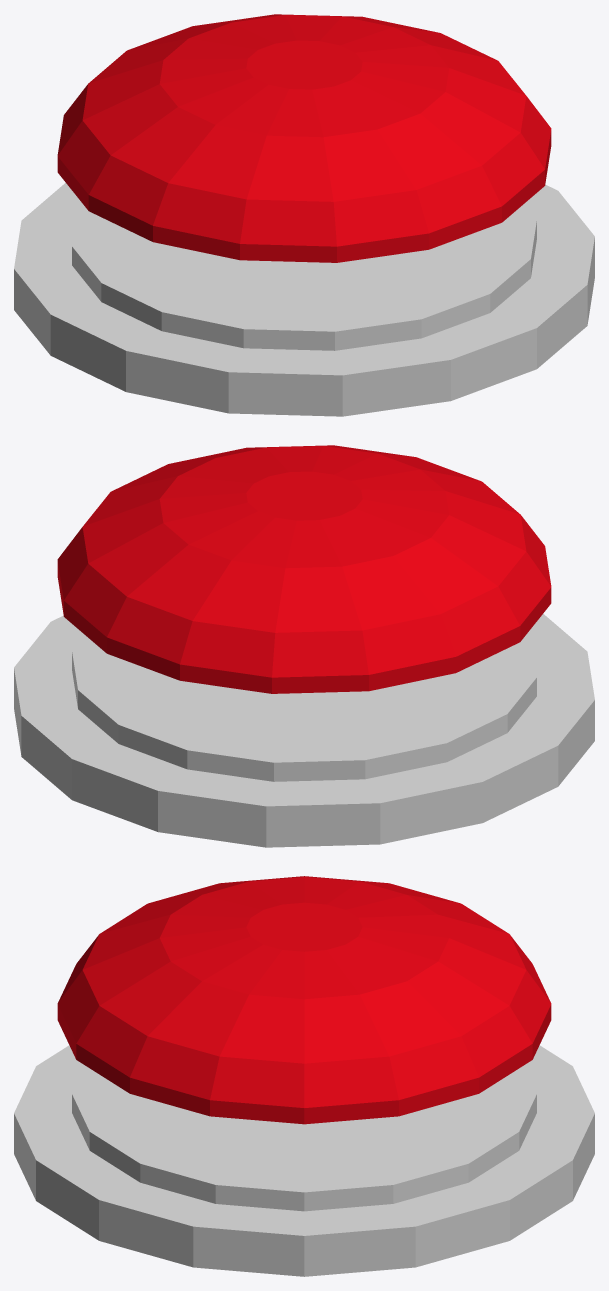
File: Button.fbx
3 views of the same model, one above another, from view 1: azimuth 30°, elevation 25°; view 2: azimuth 150°, elevation 25°; view 3: azimuth 270°, elevation 25° (orthographic).
Visible parts, largest first — view 1: Cylinder.001, Cylinder; view 2: Cylinder.001, Cylinder; view 3: Cylinder.001, Cylinder.
Boxes of the visible parts, left/top/right/bottom form: Cylinder.001: left=57, top=14, right=551, bottom=262; Cylinder: left=14, top=183, right=594, bottom=416; Cylinder.001: left=57, top=445, right=551, bottom=693; Cylinder: left=14, top=614, right=594, bottom=847; Cylinder.001: left=57, top=876, right=551, bottom=1124; Cylinder: left=14, top=1045, right=594, bottom=1276.
Size of the model in its own units: 200 by 86.16 by 200.
